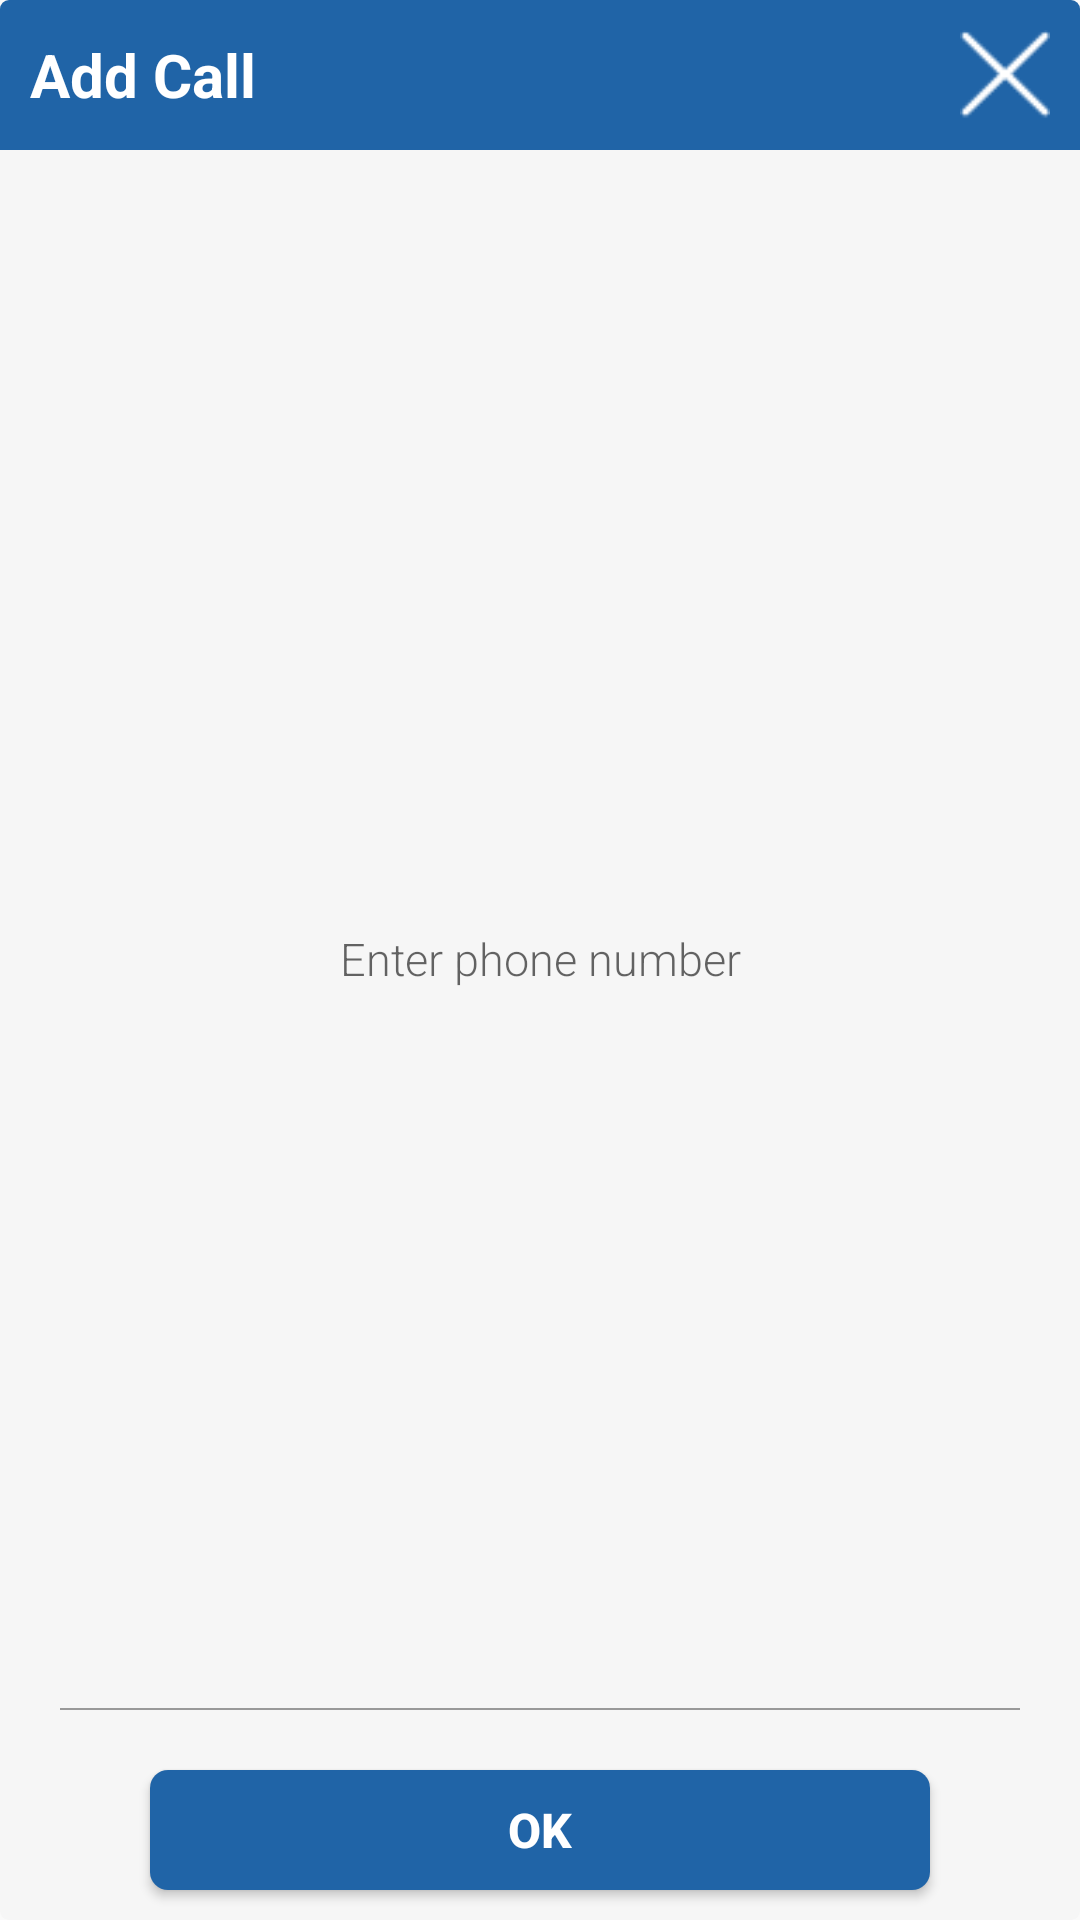

Named icons in this screenshot (1080*1920) and their centers, point (x, y):
close: point (1005, 75)
